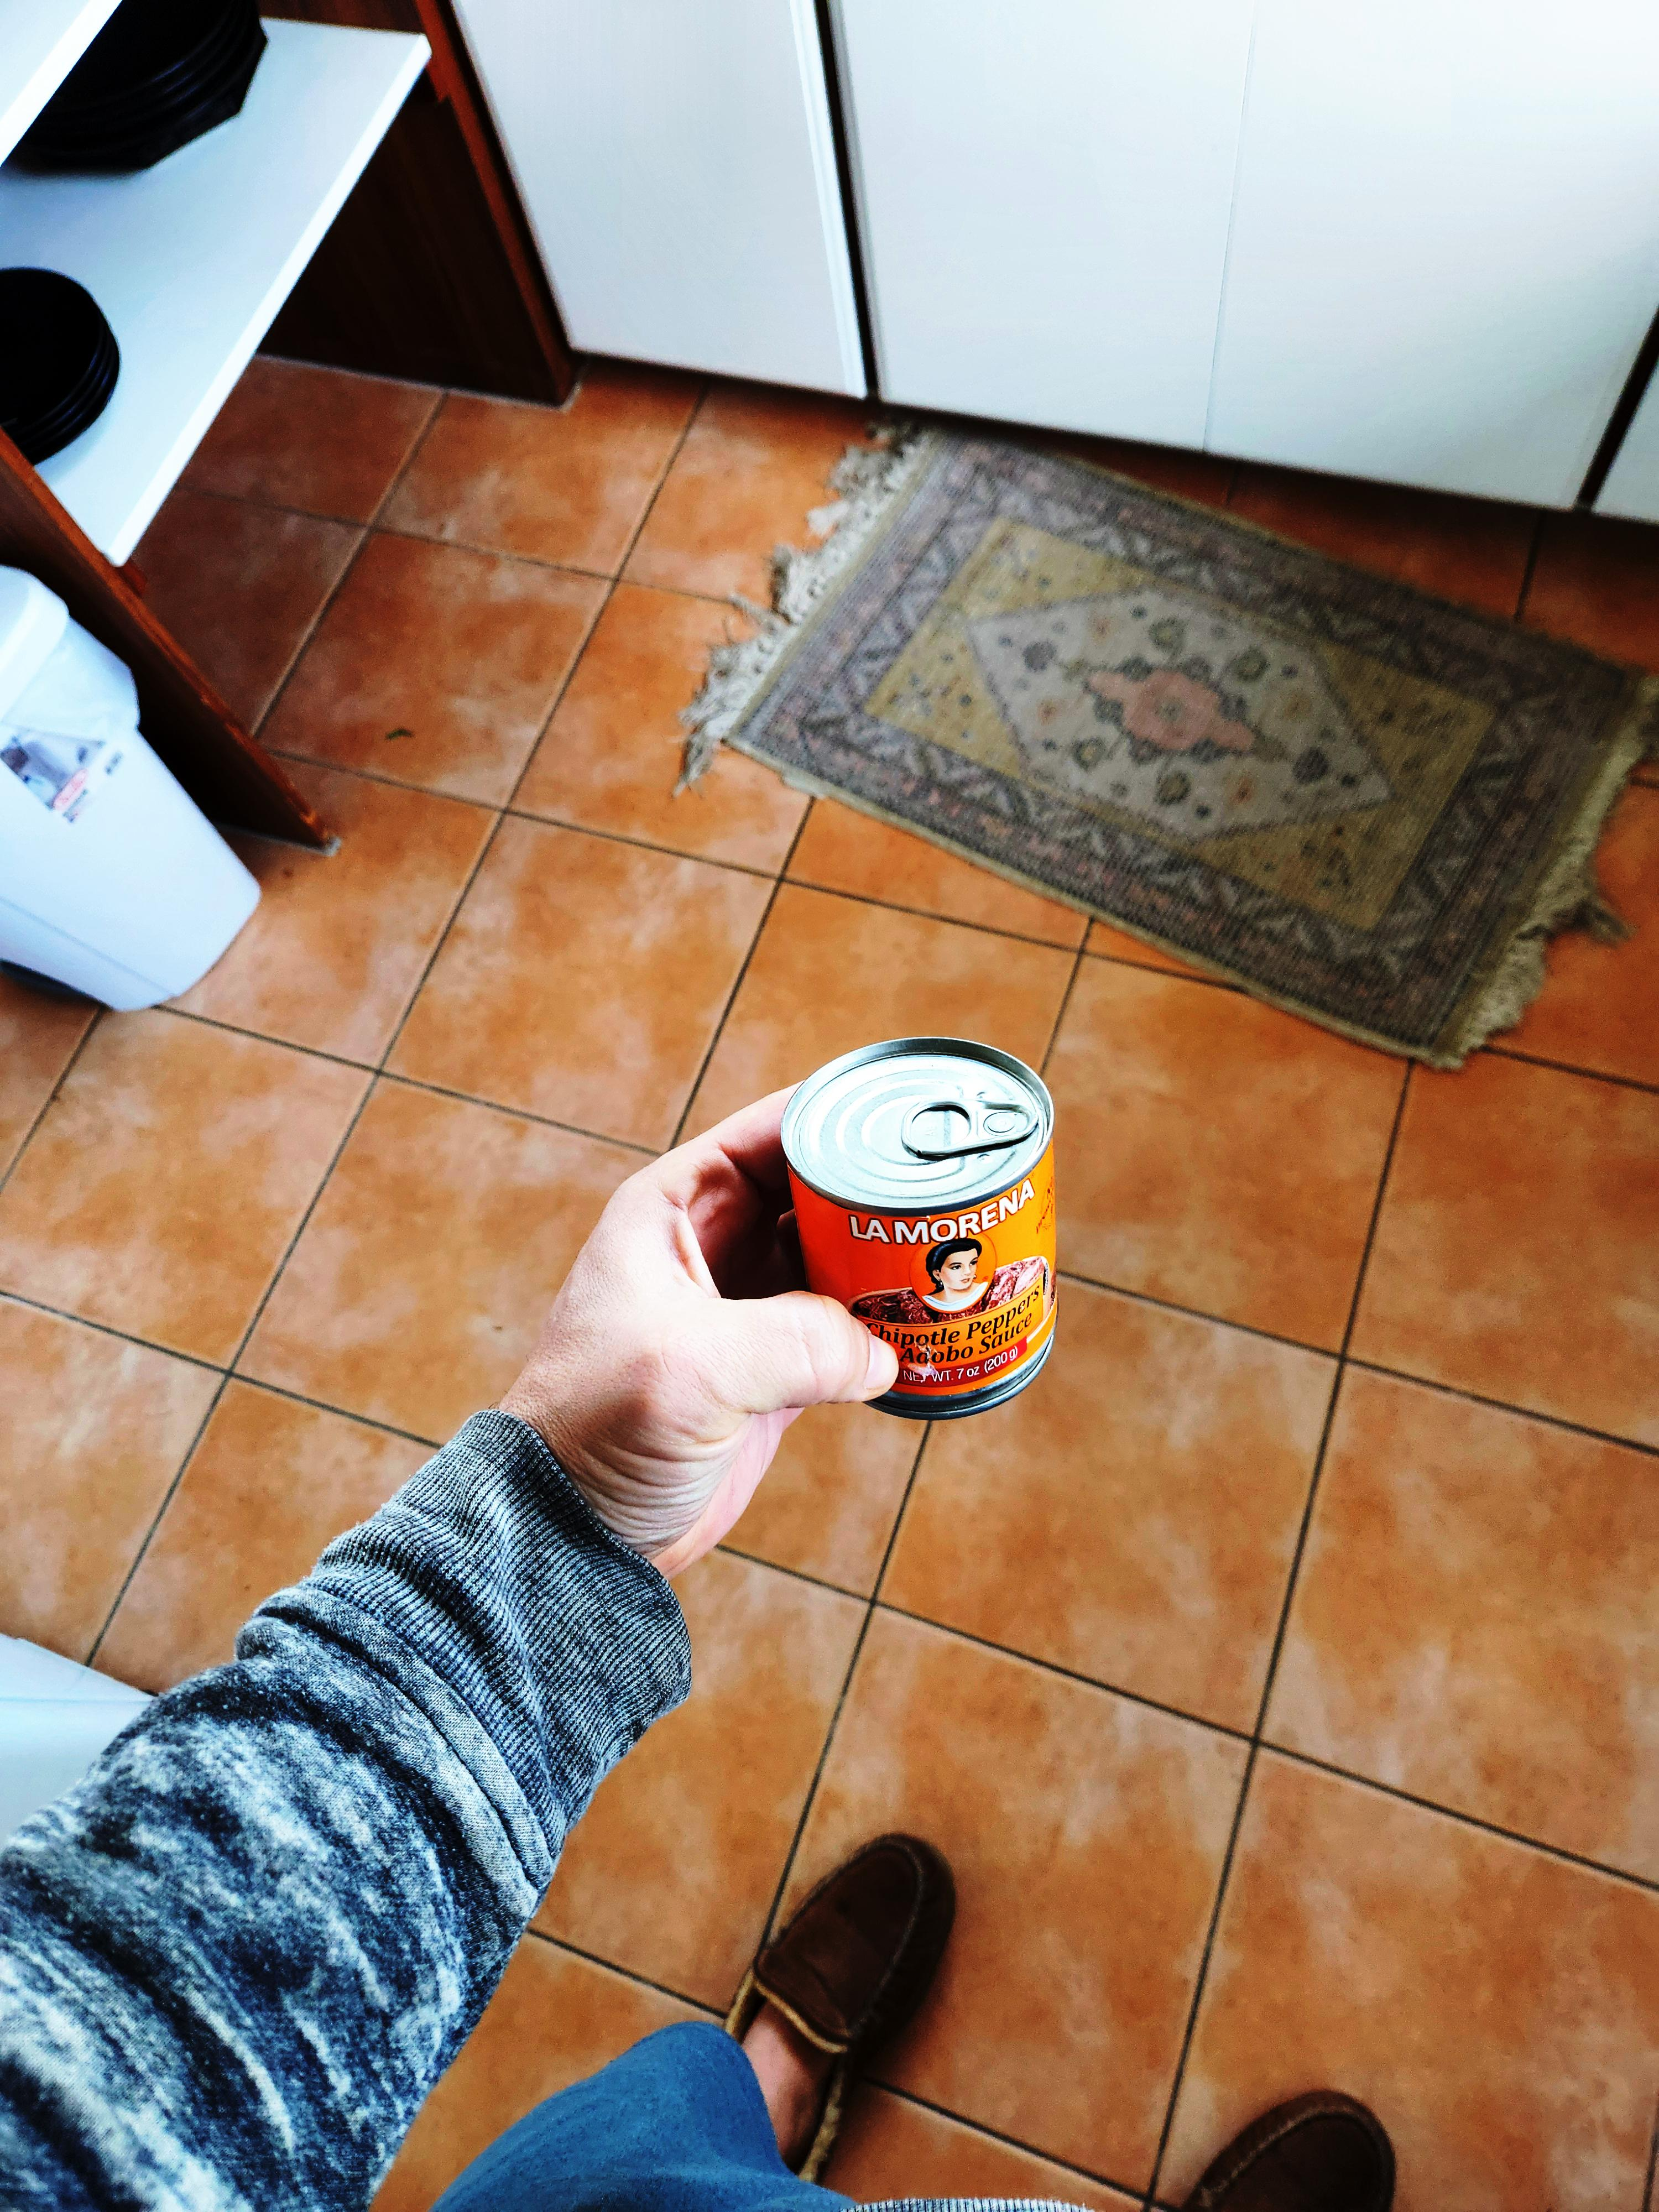beans: (582, 1383, 795, 1888)
